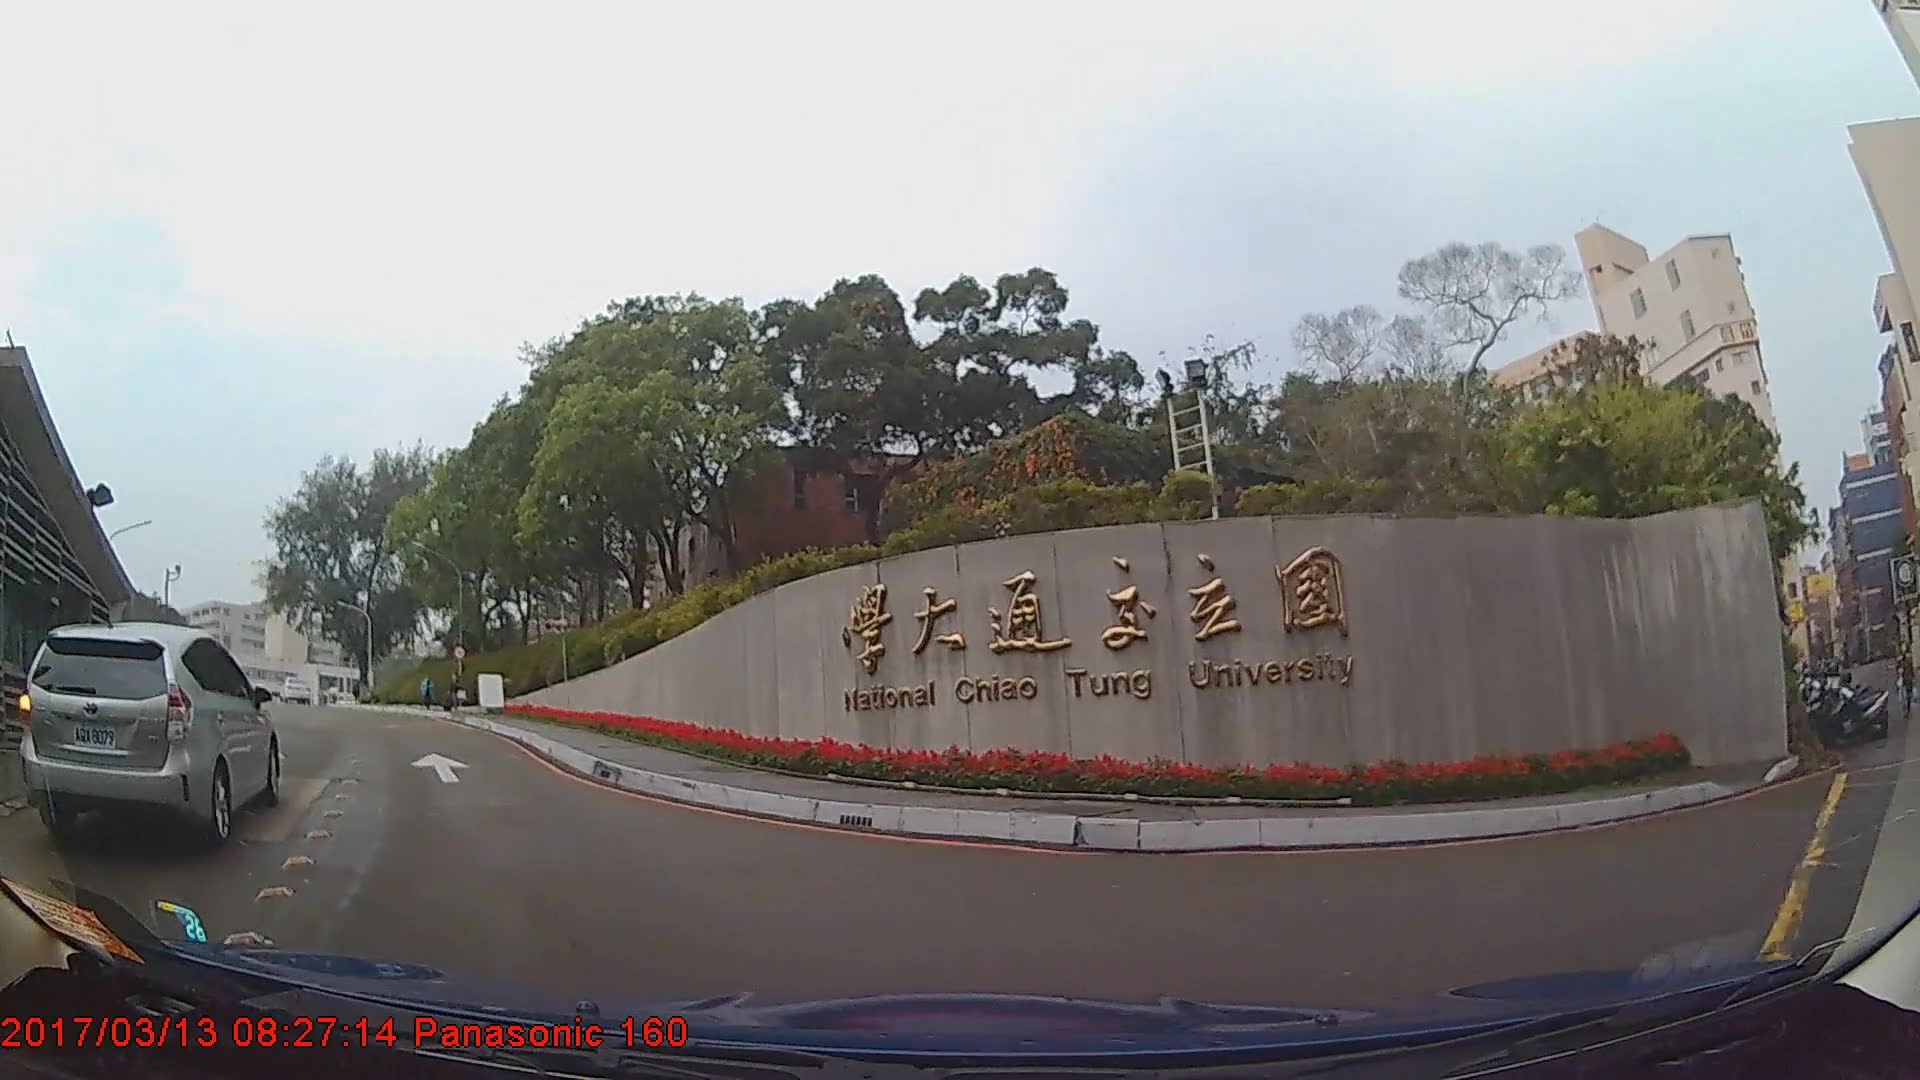vehicle: (21, 618, 281, 851), (278, 676, 311, 705)
